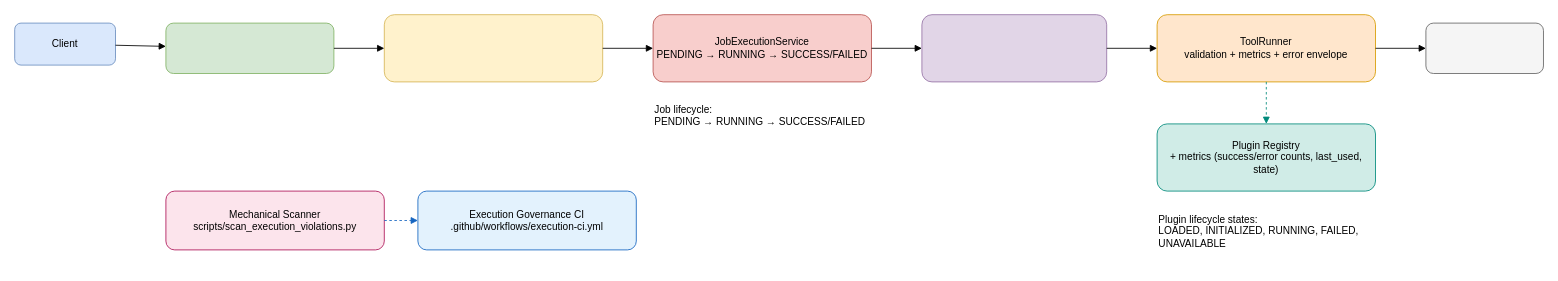
Image size: 1558x281. Some labels were removed from this diagram. The shapes that lost their labels are listed below. From the top down, each one's box as (x1, y1, x2, y2) in pixels, then its label:
(165, 22, 334, 74): API Route /v1/analyze-execution
(383, 14, 603, 82): AnalysisExecutionService (sync + async orchestration)
(921, 14, 1107, 82): PluginExecutionService delegates to ToolRunner
(1425, 22, 1544, 74): Plugin .run(payload)
